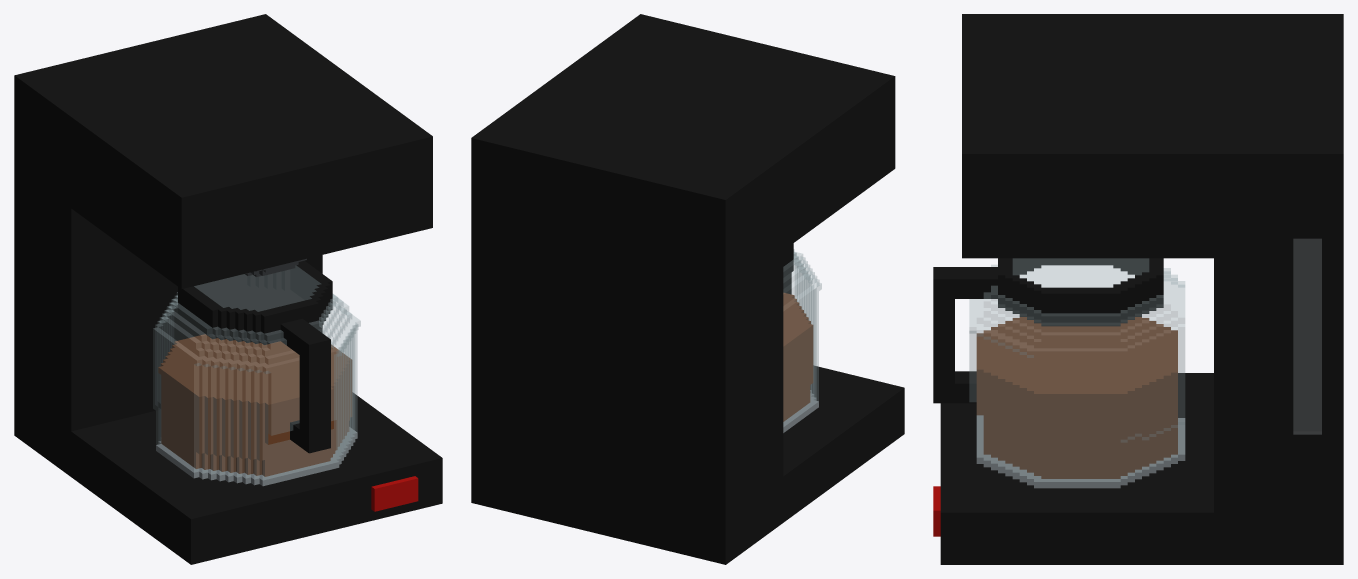
The model's file is coffeemaker.glb.
The picture shows the model from 3 angles, left to right: view 1: azimuth 30°, elevation 25°; view 2: azimuth 150°, elevation 25°; view 3: azimuth 270°, elevation 25°; orthographic projection. The views are drawn at different scales.
Parts seen in each view (by area): view 1: coffeemaker:compound; view 2: coffeemaker:compound; view 3: coffeemaker:compound.
Part boxes in pixels (box(x1,y1,x2,y2)): coffeemaker:compound: box(14, 14, 442, 564); coffeemaker:compound: box(471, 14, 904, 564); coffeemaker:compound: box(933, 14, 1343, 564).
Bounding box in the file's own units: 0.184 × 0.252 × 0.228.
